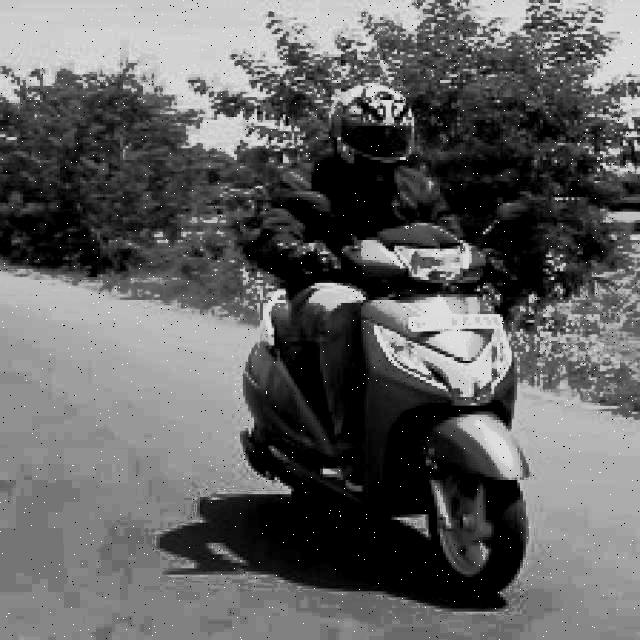Bike: (217, 223, 545, 603)
